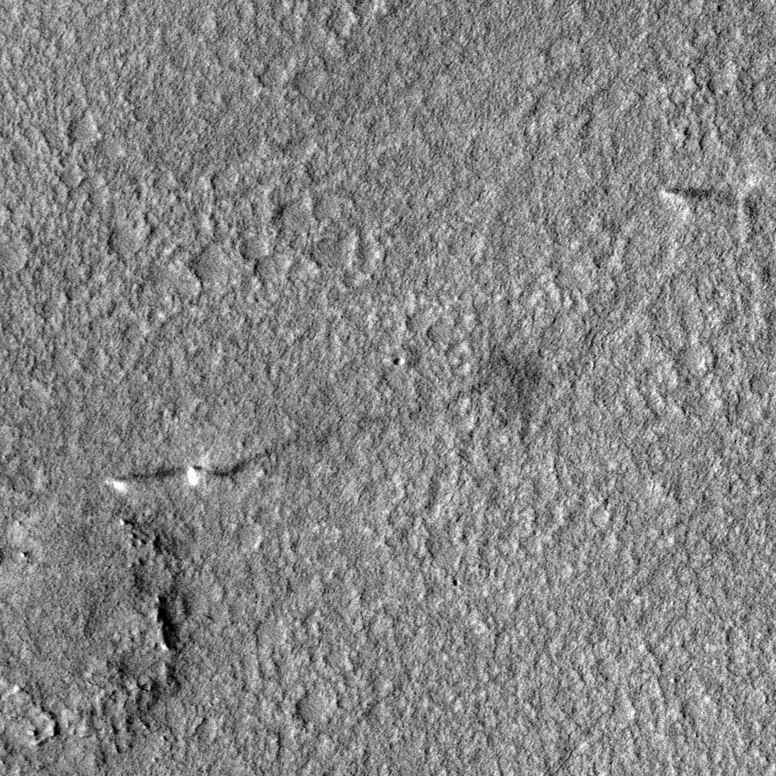dust_devil: (186, 429, 302, 487), (658, 187, 760, 223), (104, 467, 183, 495)
